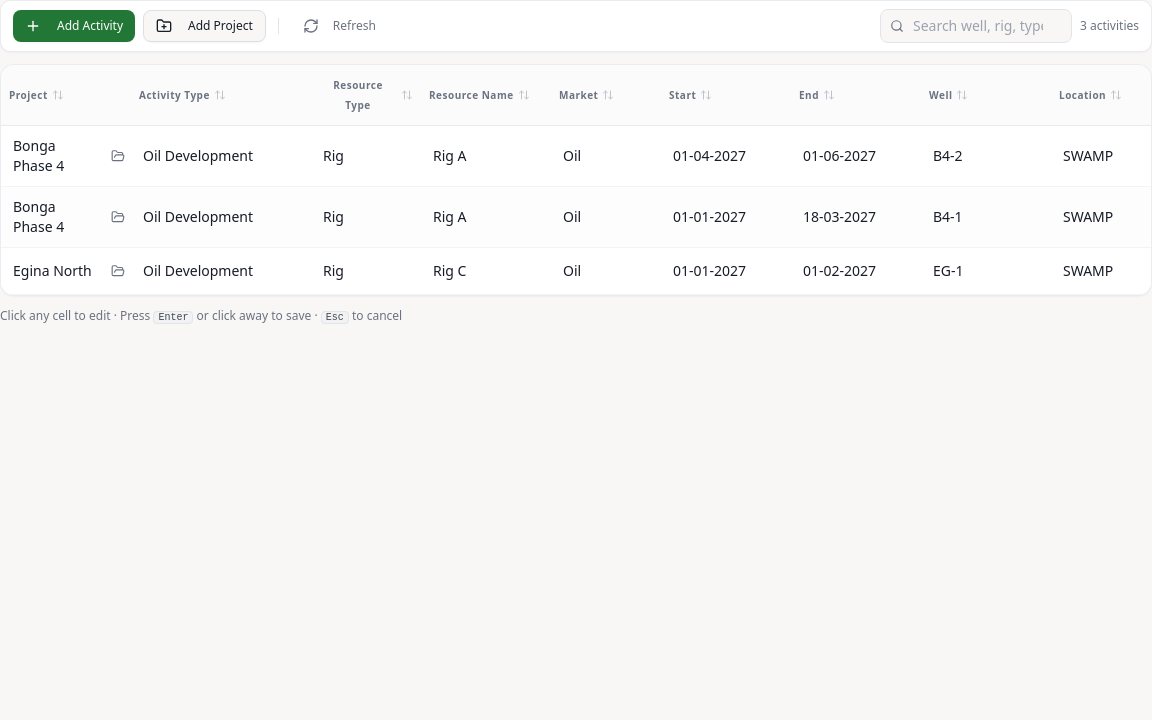
Test: Opening a project from the Activities grid › the Project column opens the project's dialog
The image size is (1152, 720).
Click the 1st button named "Open project Bonga Phase 4".
click(118, 156)  # box [109,147,127,165]
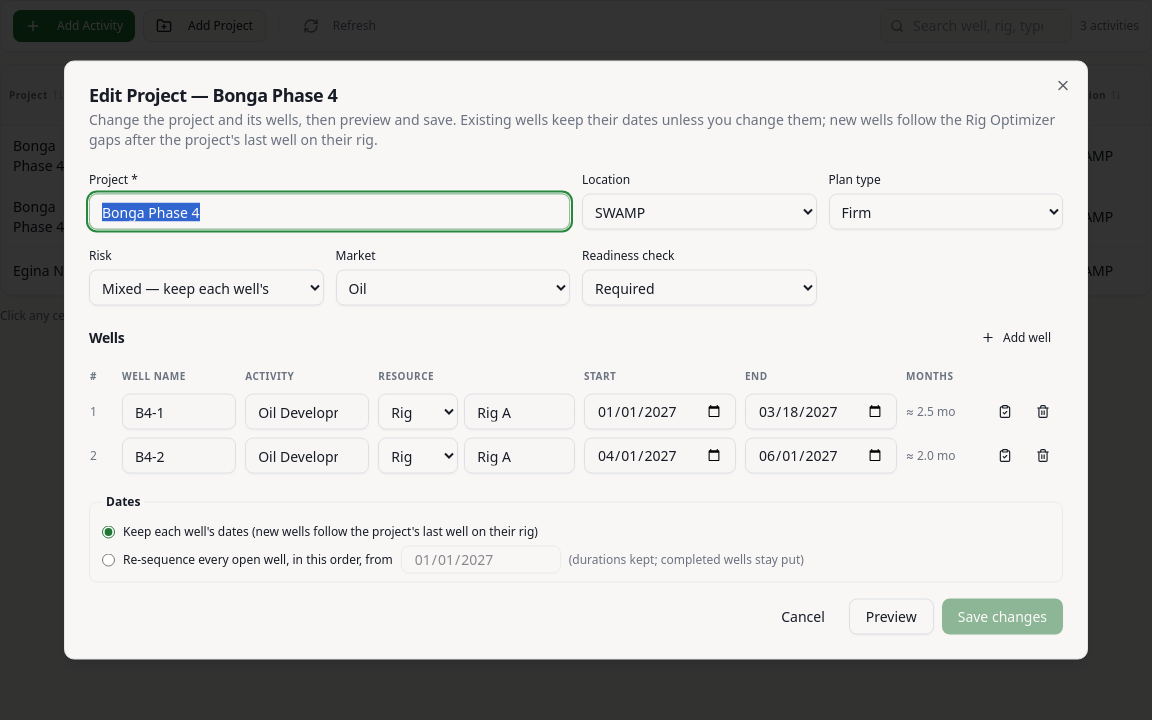
Check: the field named "Well 2 name" holds "B4-2", box [122,438,236,474]
